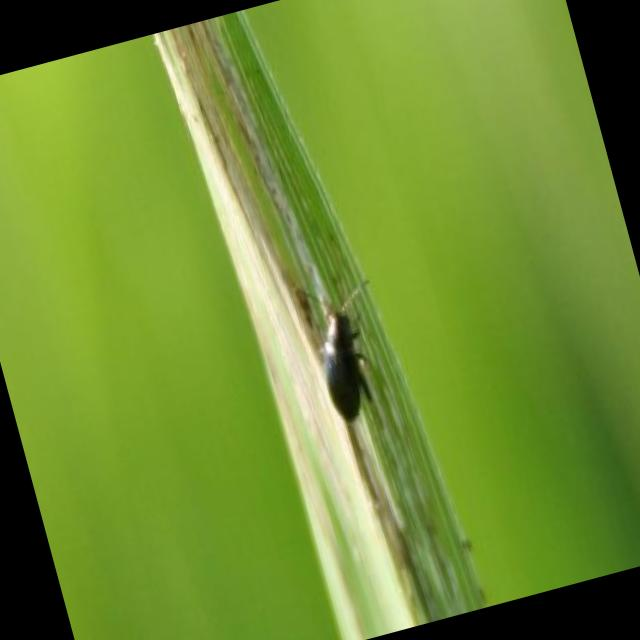rice-bug: (296, 279, 386, 430)
